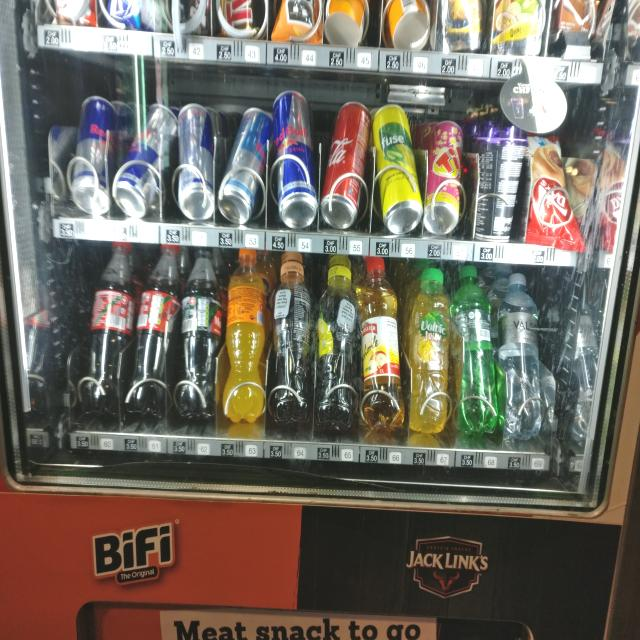7days_croissantschoko_packung_80_1_0000000000003: (526, 126, 567, 240)
caferoyal_classicmacchiato__33__7617014164487: (476, 114, 526, 235)
coke__dose_33__54491472: (324, 101, 371, 229)
coke__flasche_50__54491472: (124, 244, 184, 412), (86, 238, 129, 410), (183, 244, 224, 411)
fanta___50__40822938: (224, 241, 268, 421)
fuse_lemon__50__5449000235947: (316, 257, 357, 427)
fuse_lemon_dose_33__5449000235947: (370, 101, 428, 228)
fuse_peach__50__5449000236623: (267, 258, 315, 424)
ramseier_schorle__50__7610057012456: (355, 254, 409, 429)
redbull___33__90162909: (119, 95, 175, 224), (274, 88, 323, 224), (217, 101, 267, 221), (75, 93, 116, 215), (176, 102, 216, 216)
tiki_himbeer_brause__50__00000000009342: (425, 113, 466, 225)
valser_classic__50__76404160: (451, 264, 500, 437)
valser_still__50__7610335002575: (496, 270, 546, 437)
volvic_pinapple__50__305764335648: (406, 259, 454, 437)
